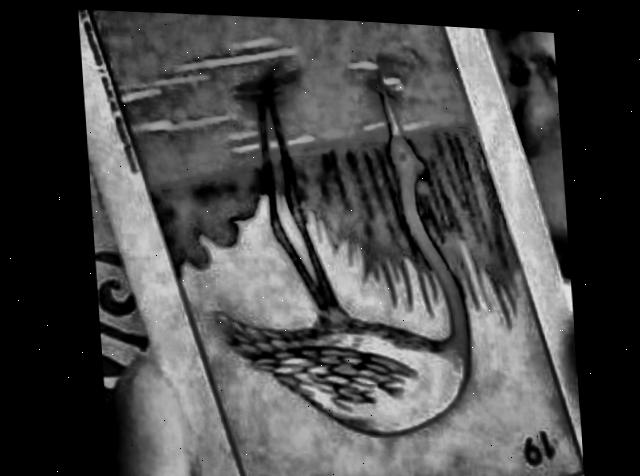El Garza: (91, 8, 577, 476)
